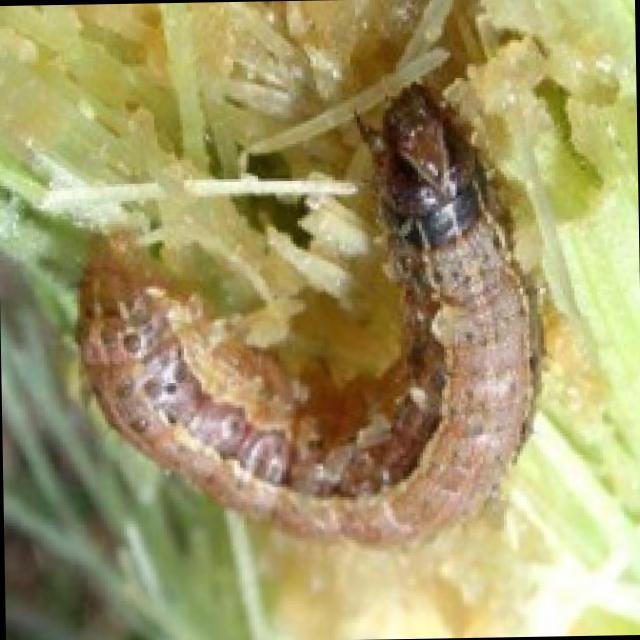Plaga: (54, 71, 568, 580)
